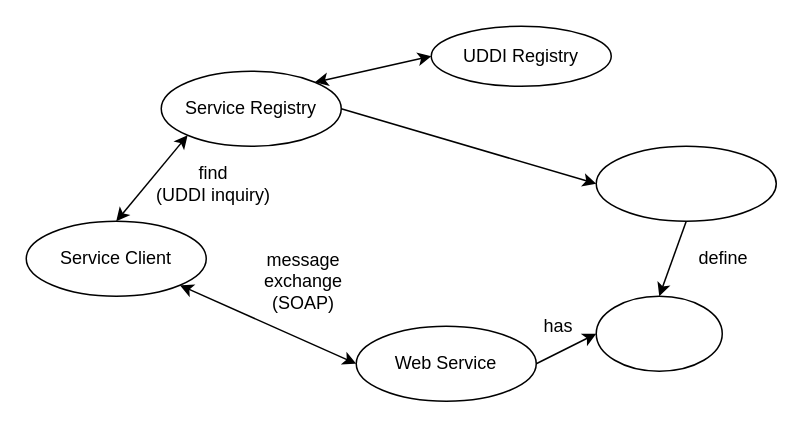
This 803x428 diagram has some shape labels left out. Each missing label, with the centre of its shape:
"Service Description (WSDL)" belongs at point (658, 333).
"Service Provider" belongs at point (685, 183).
